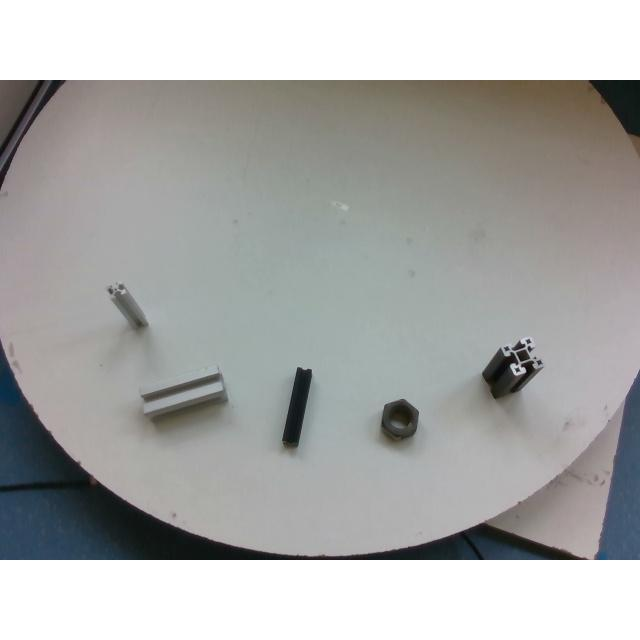F20_20_B: (282, 367, 310, 447)
F20_20_G: (108, 282, 148, 328)
M30: (382, 398, 418, 438)
S40_40_B: (482, 338, 542, 398)
S40_40_G: (140, 364, 226, 416)
